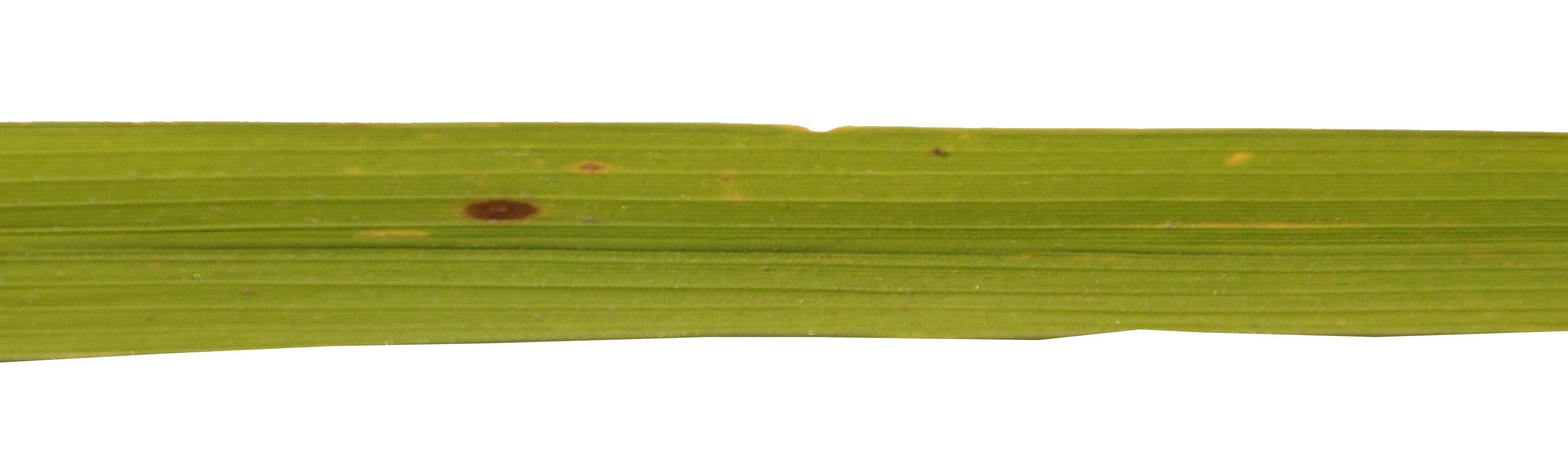Brown spot: (467, 188, 553, 239), (568, 144, 621, 188)
